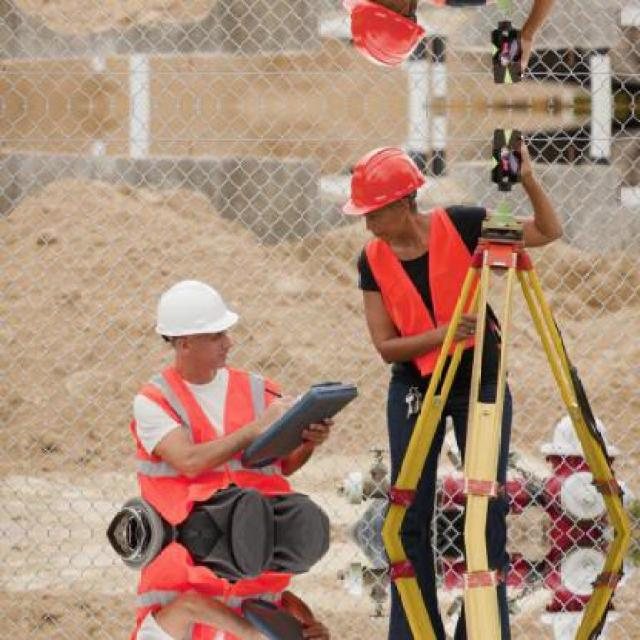helmet: (333, 137, 439, 250), (145, 268, 243, 381), (332, 0, 440, 76)
